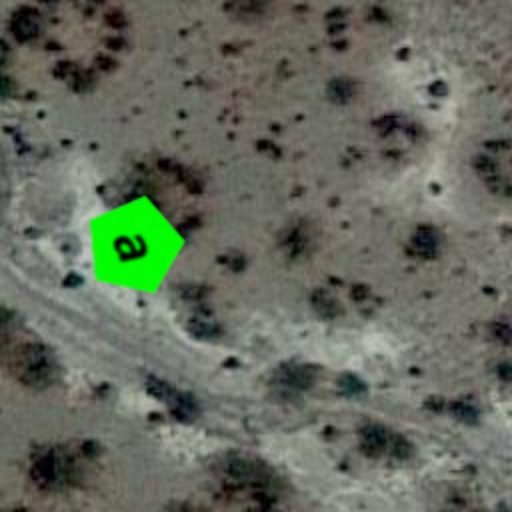pentagon: (66, 178, 202, 314)
